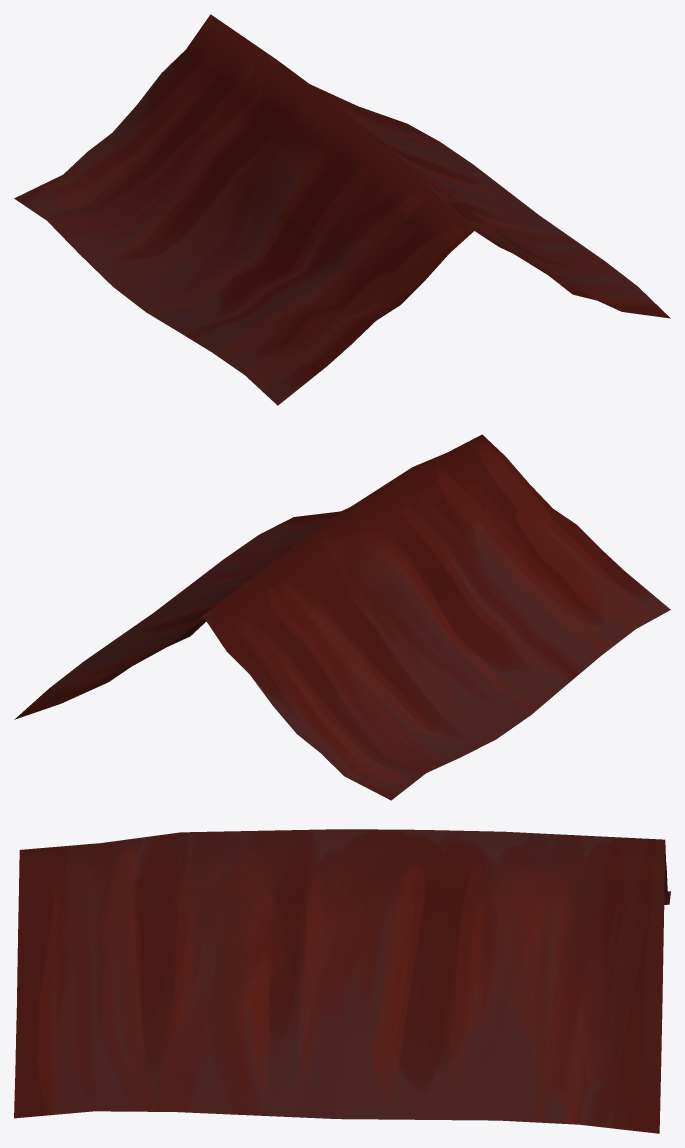
The model's file is Tent_003.fbx.
The picture shows the model from 3 angles, top to bottom: view 1: azimuth 30°, elevation 25°; view 2: azimuth 150°, elevation 25°; view 3: azimuth 270°, elevation 25°; orthographic projection. The views are drawn at different scales.
Parts seen in each view (by area): view 1: Tent05; view 2: Tent05; view 3: Tent05.
Boxes of the visible parts, x1,y1,x2,y2 form: Tent05: (14, 14, 670, 405); Tent05: (14, 434, 670, 800); Tent05: (14, 829, 670, 1133).
Size of the model in its own units: 1837 by 711 by 2227.
Materials: 1 (1 with a texture image).
